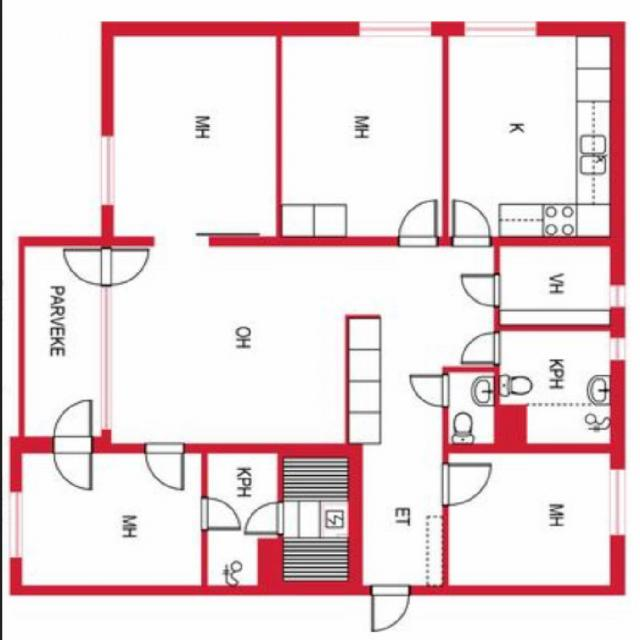door: (54, 437, 92, 490), (54, 400, 92, 452), (443, 465, 490, 505), (101, 249, 151, 285), (64, 249, 114, 285), (452, 200, 490, 246), (398, 200, 436, 246), (147, 444, 185, 489), (373, 586, 410, 631), (244, 501, 284, 534), (202, 497, 241, 530), (462, 274, 500, 306), (462, 331, 499, 363), (411, 375, 448, 405)
